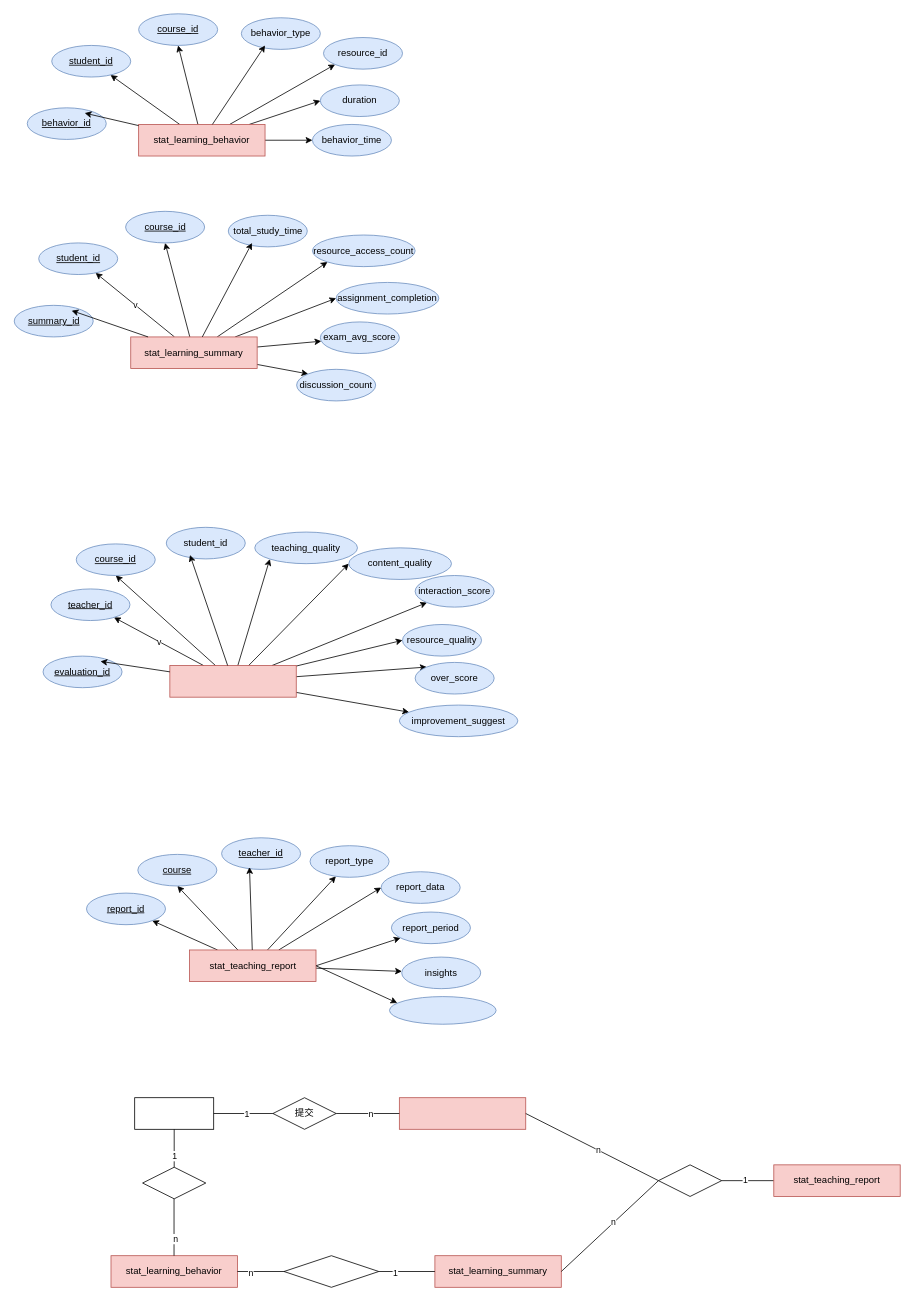
Some shapes in this 914 by 1301 pixel diagram are drawn without their labels. The box of each missing label's shape, as (x1, y1, x2, y2) in pixels:
edu_student: (134, 1097, 214, 1129)
improvement_areas: (389, 996, 496, 1024)
stat_learning_evaluation: (169, 665, 296, 697)
stat_teaching_evaluation: (399, 1097, 526, 1129)
产生: (142, 1166, 206, 1199)
提供数据: (658, 1164, 722, 1196)
汇总生成: (283, 1255, 379, 1287)
